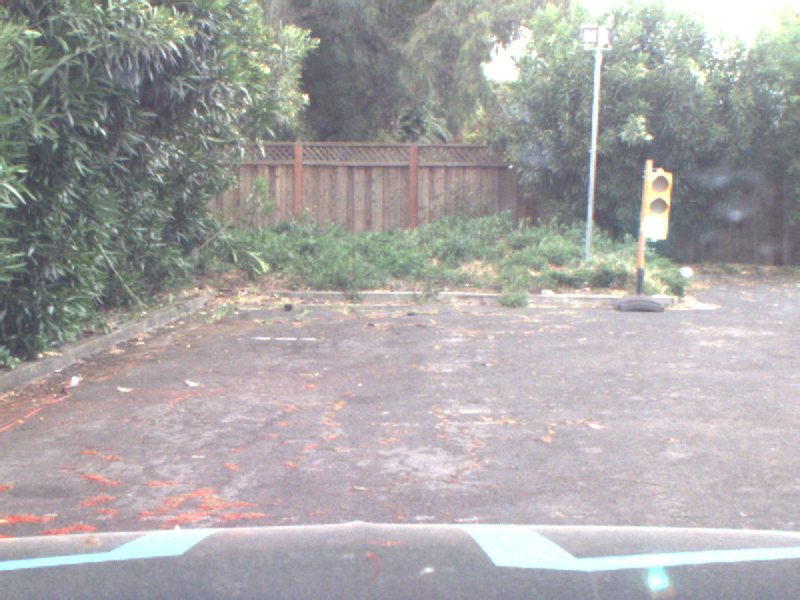Green: (642, 167, 670, 244)
